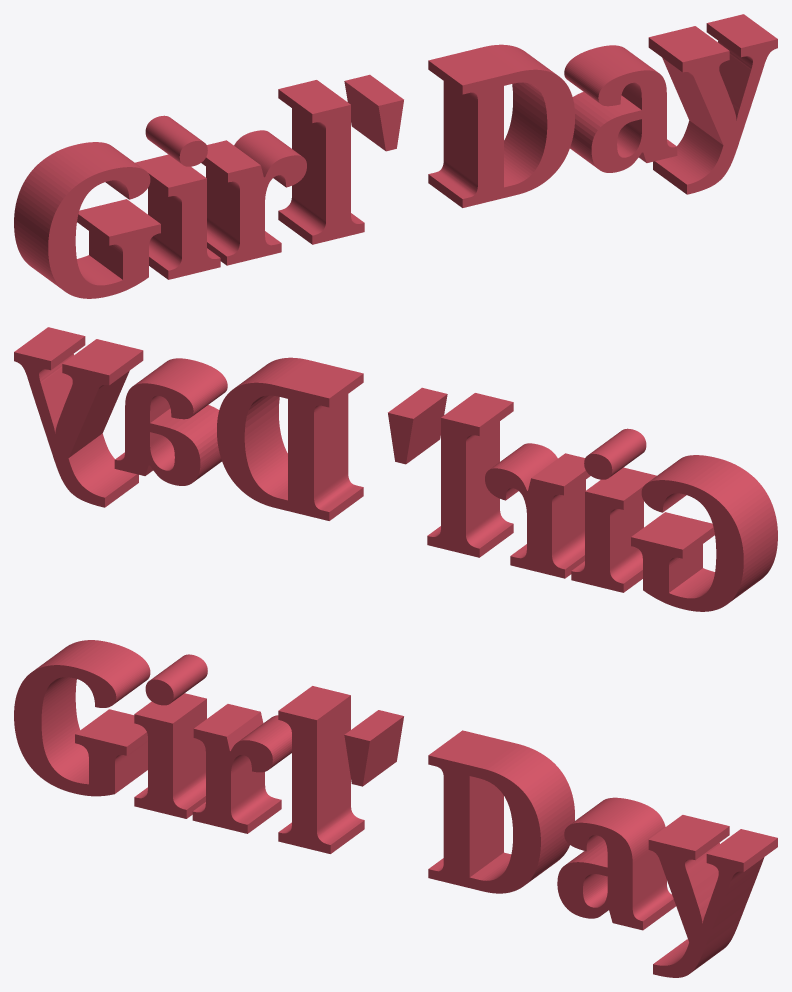
File: asset.glb
The picture shows the model from 3 angles, top to bottom: view 1: azimuth 30°, elevation 25°; view 2: azimuth 150°, elevation 25°; view 3: azimuth 330°, elevation 25°; orthographic projection.
Parts seen in each view (by area): view 1: Mesh_Mesh_head_geo.001_lambert2SG.001; view 2: Mesh_Mesh_head_geo.001_lambert2SG.001; view 3: Mesh_Mesh_head_geo.001_lambert2SG.001.
Part boxes in pixels (x1=…): Mesh_Mesh_head_geo.001_lambert2SG.001: x1=14, y1=14, x2=777, y2=298; Mesh_Mesh_head_geo.001_lambert2SG.001: x1=14, y1=327, x2=777, y2=611; Mesh_Mesh_head_geo.001_lambert2SG.001: x1=14, y1=640, x2=777, y2=977.
Size of the model in its own units: 123 by 28.06 by 10.
